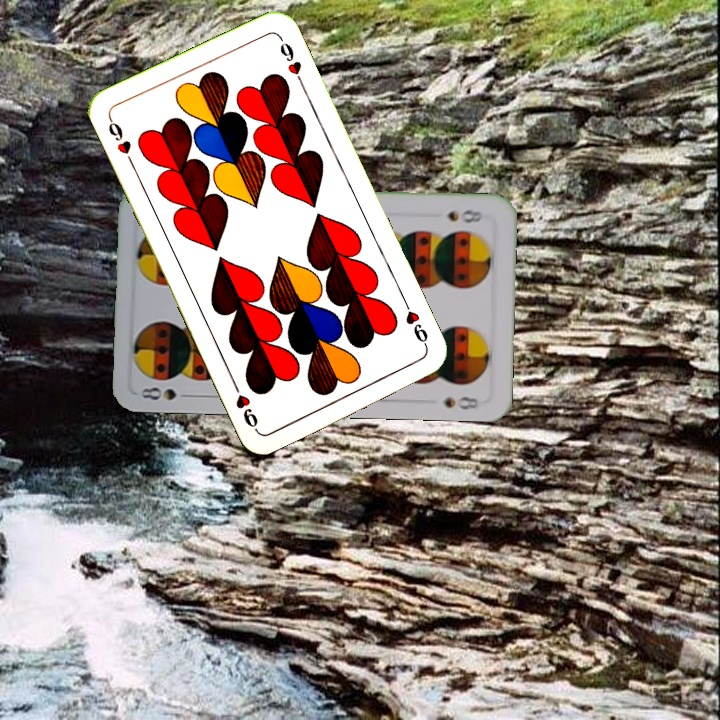H9: (104, 113, 137, 169), (399, 295, 431, 351)
S8: (138, 383, 196, 403), (444, 206, 485, 226)
